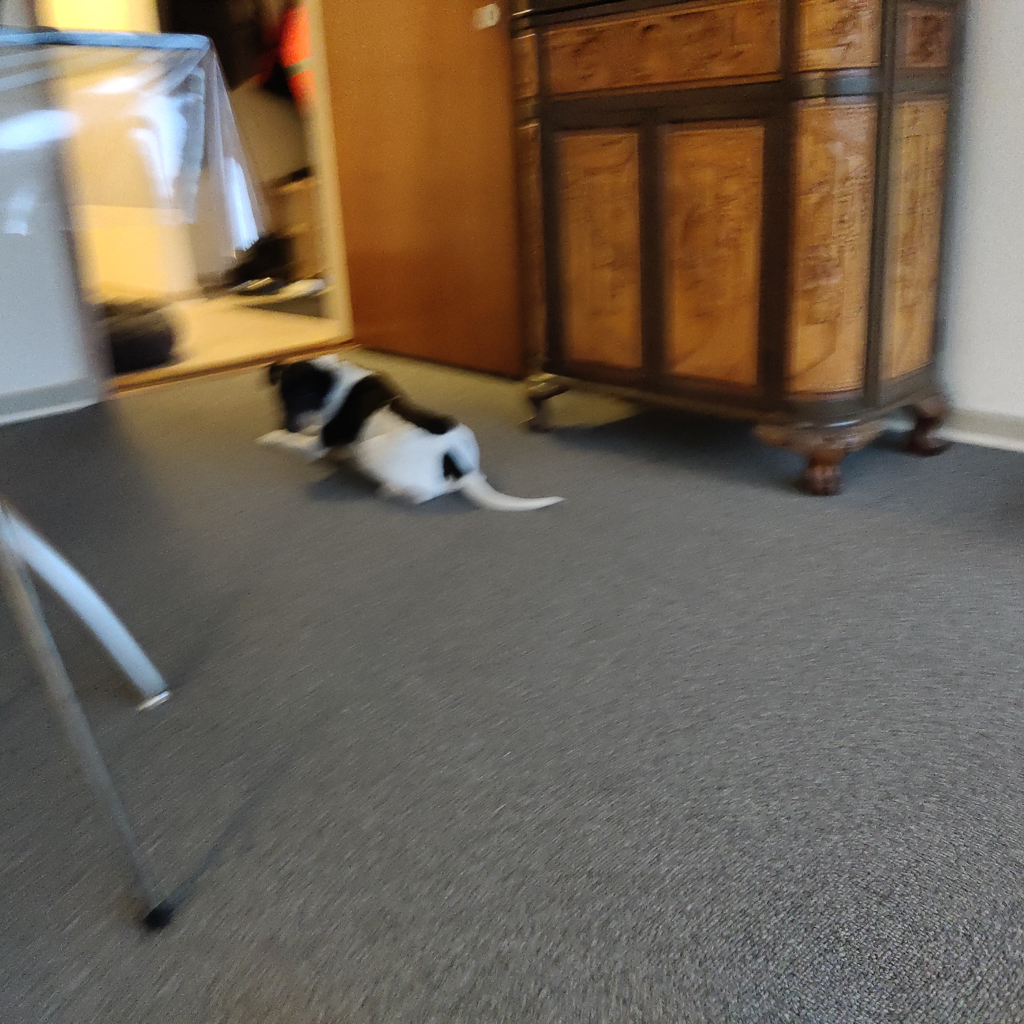Dog: (246, 341, 574, 523)
